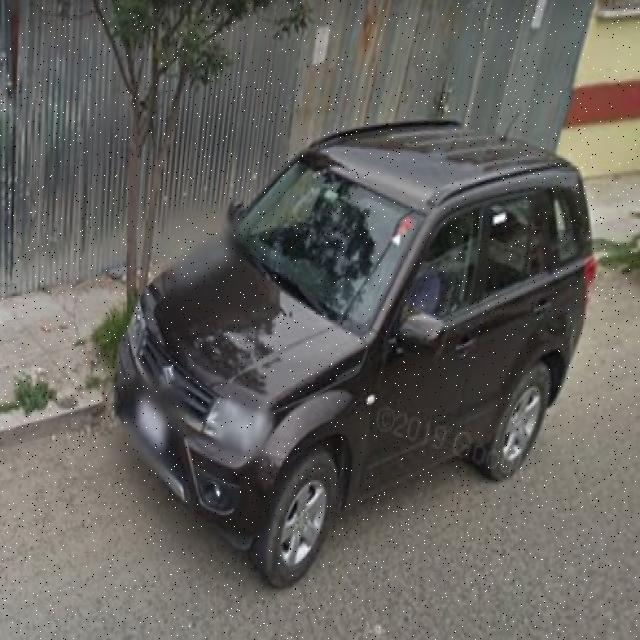cars: (111, 122, 590, 590)
